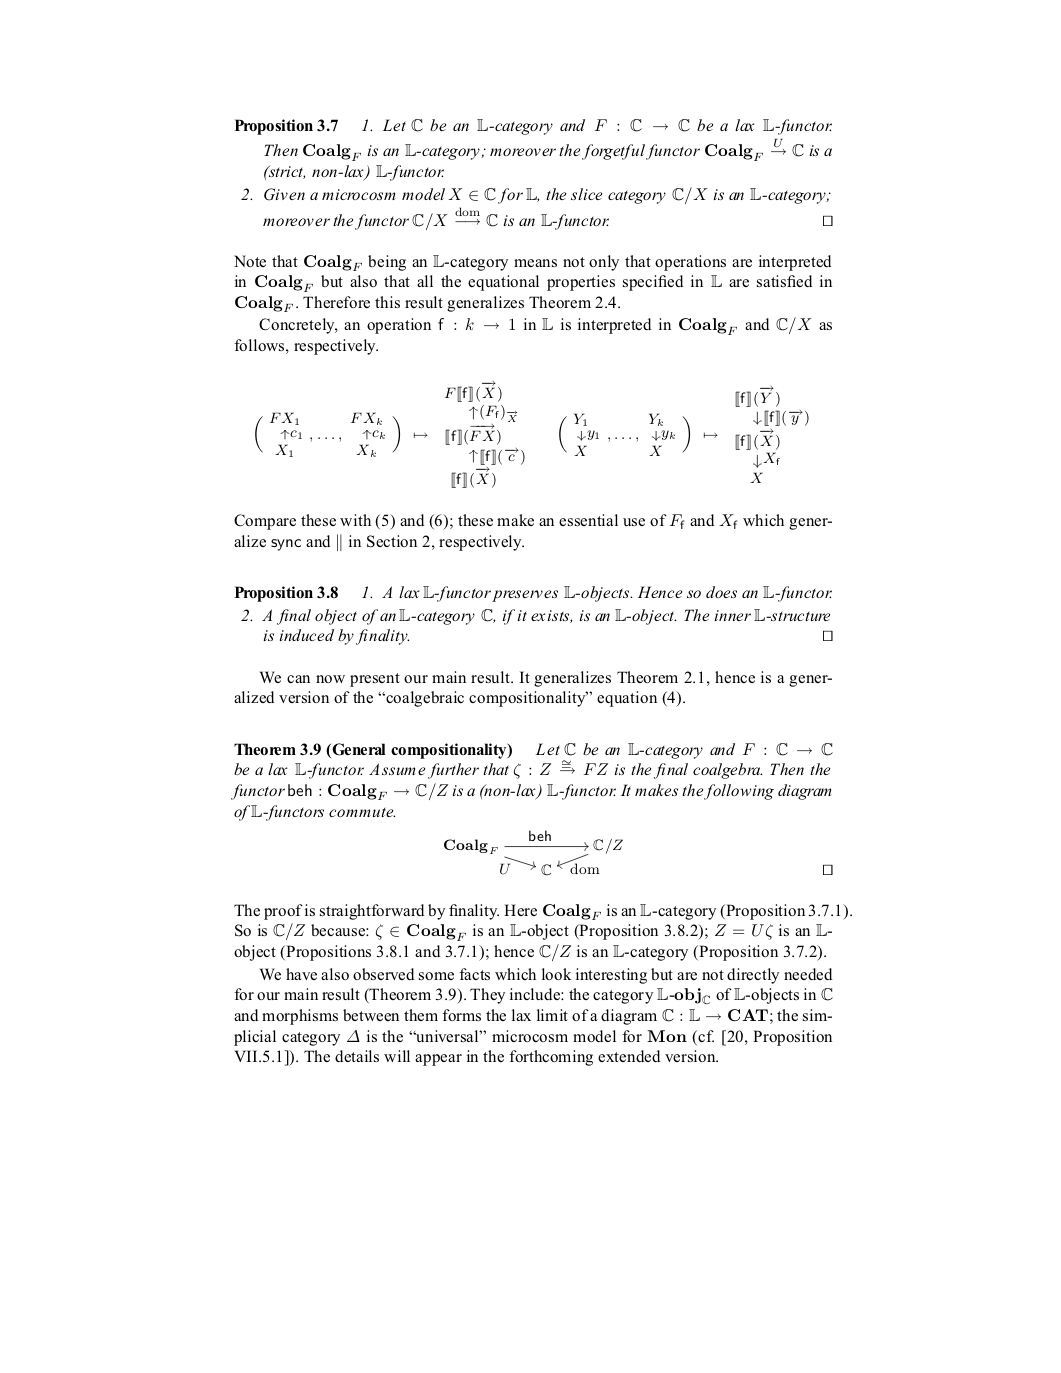figure: (444, 829, 833, 876)
formula: (255, 379, 808, 488)
